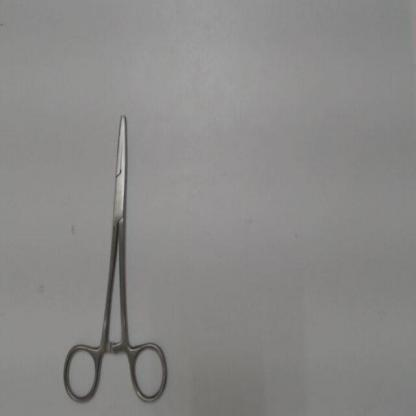Mayo Needle Holder: (59, 96, 178, 410)
